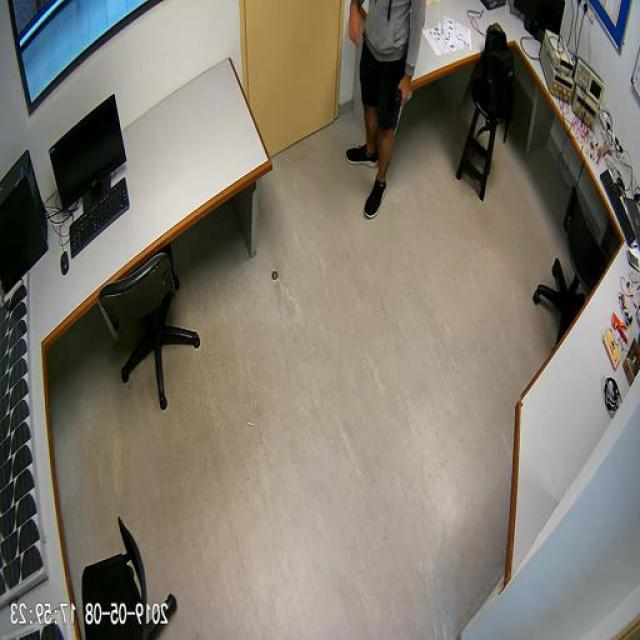Gun: (395, 80, 411, 129)
